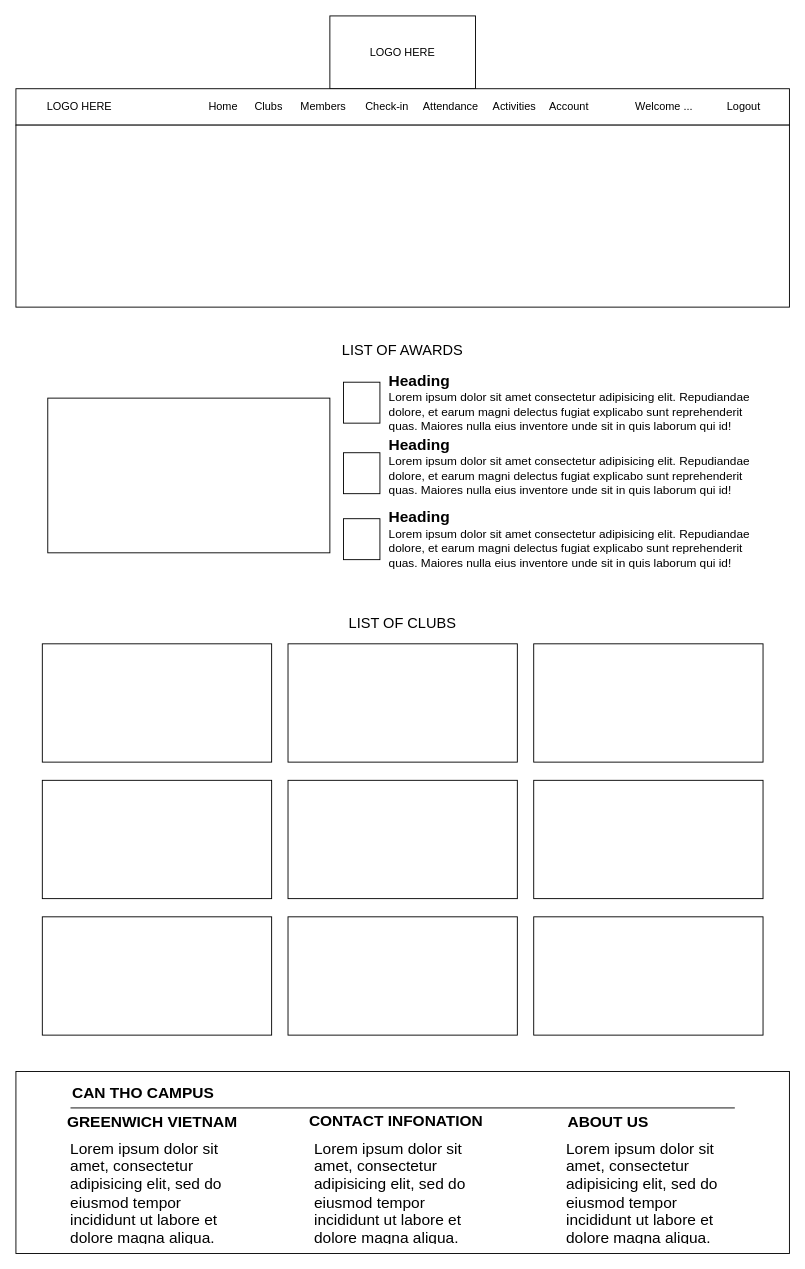
This 805x1269 diagram has some shape labels left out. The centre of each missing label's shape, as x and y in pixels:
"SLIDERS" belongs at (402,215).
"Video" belongs at (188,475).
